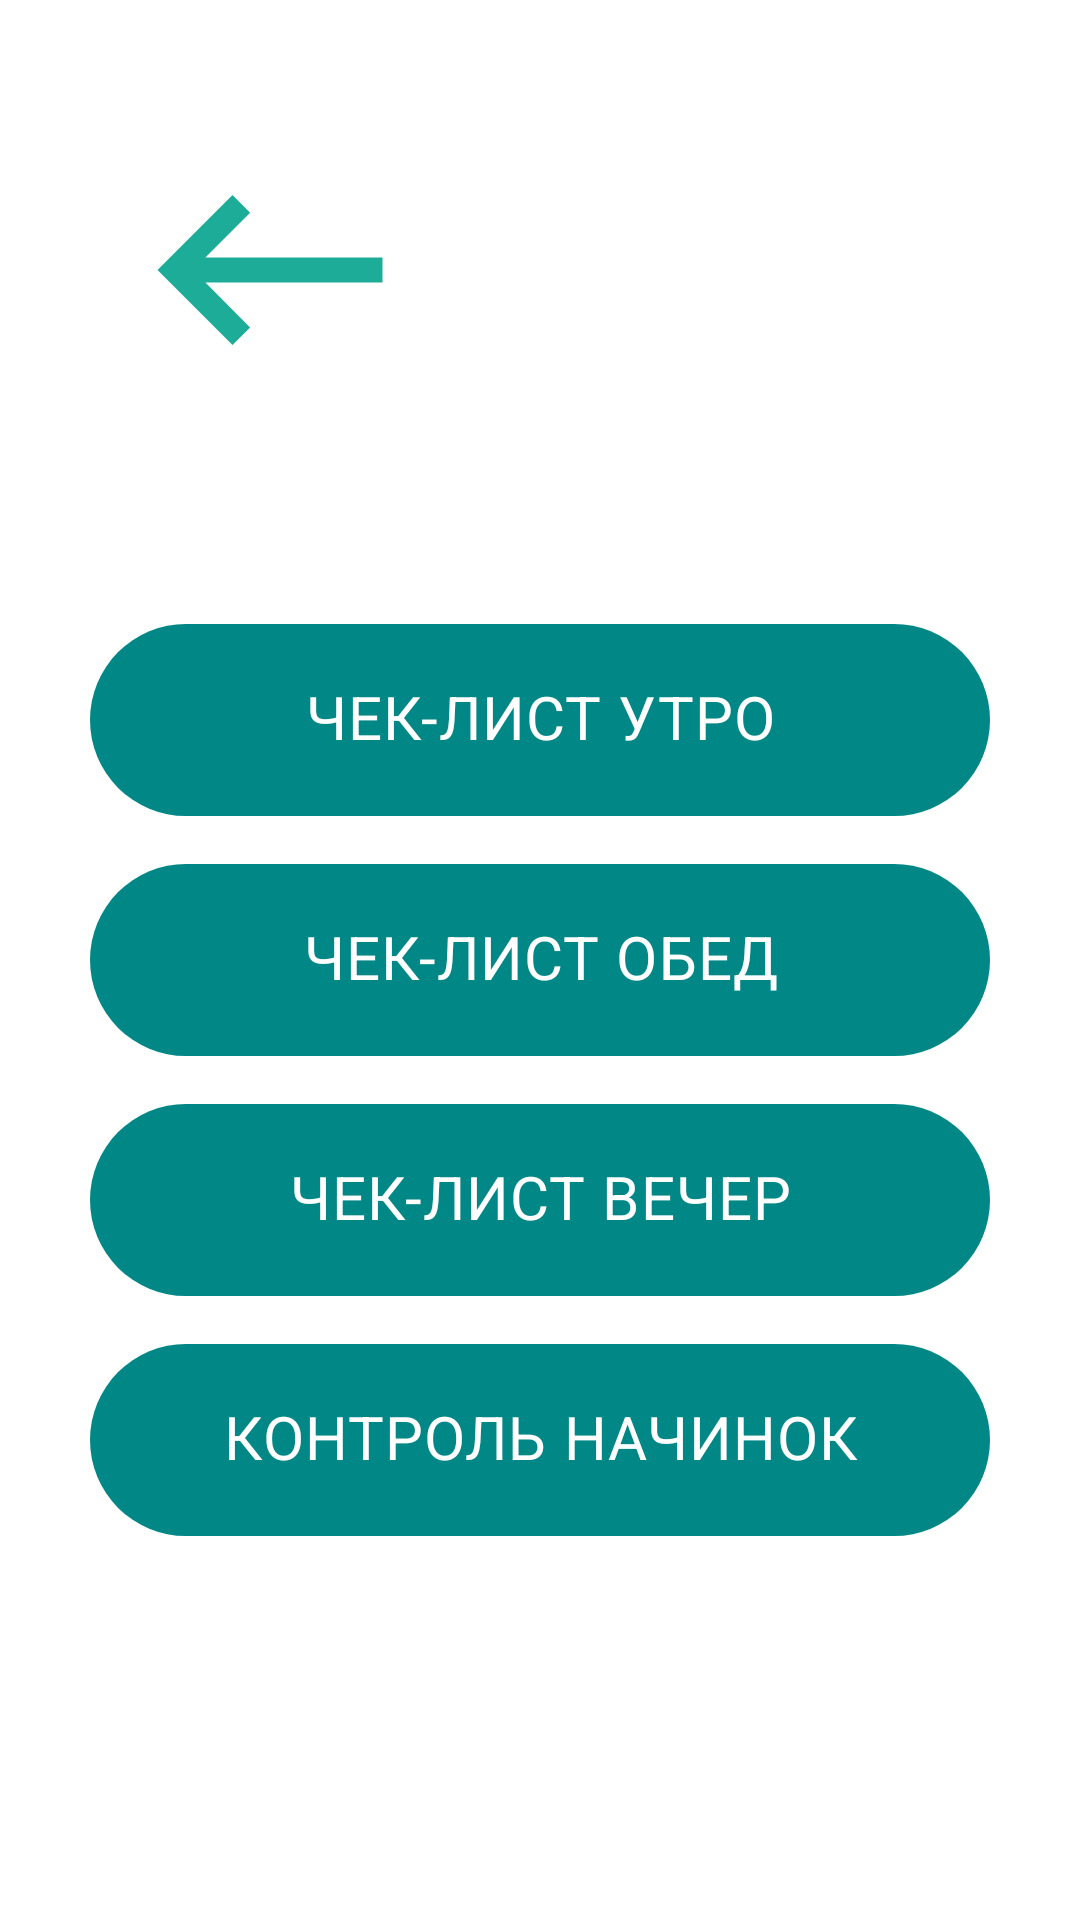

Icon bounding boxes for this 1080×1920 phone screenshot, format (x1, y1, x2, y2):
keyboard backspace: (157, 195, 383, 345)
